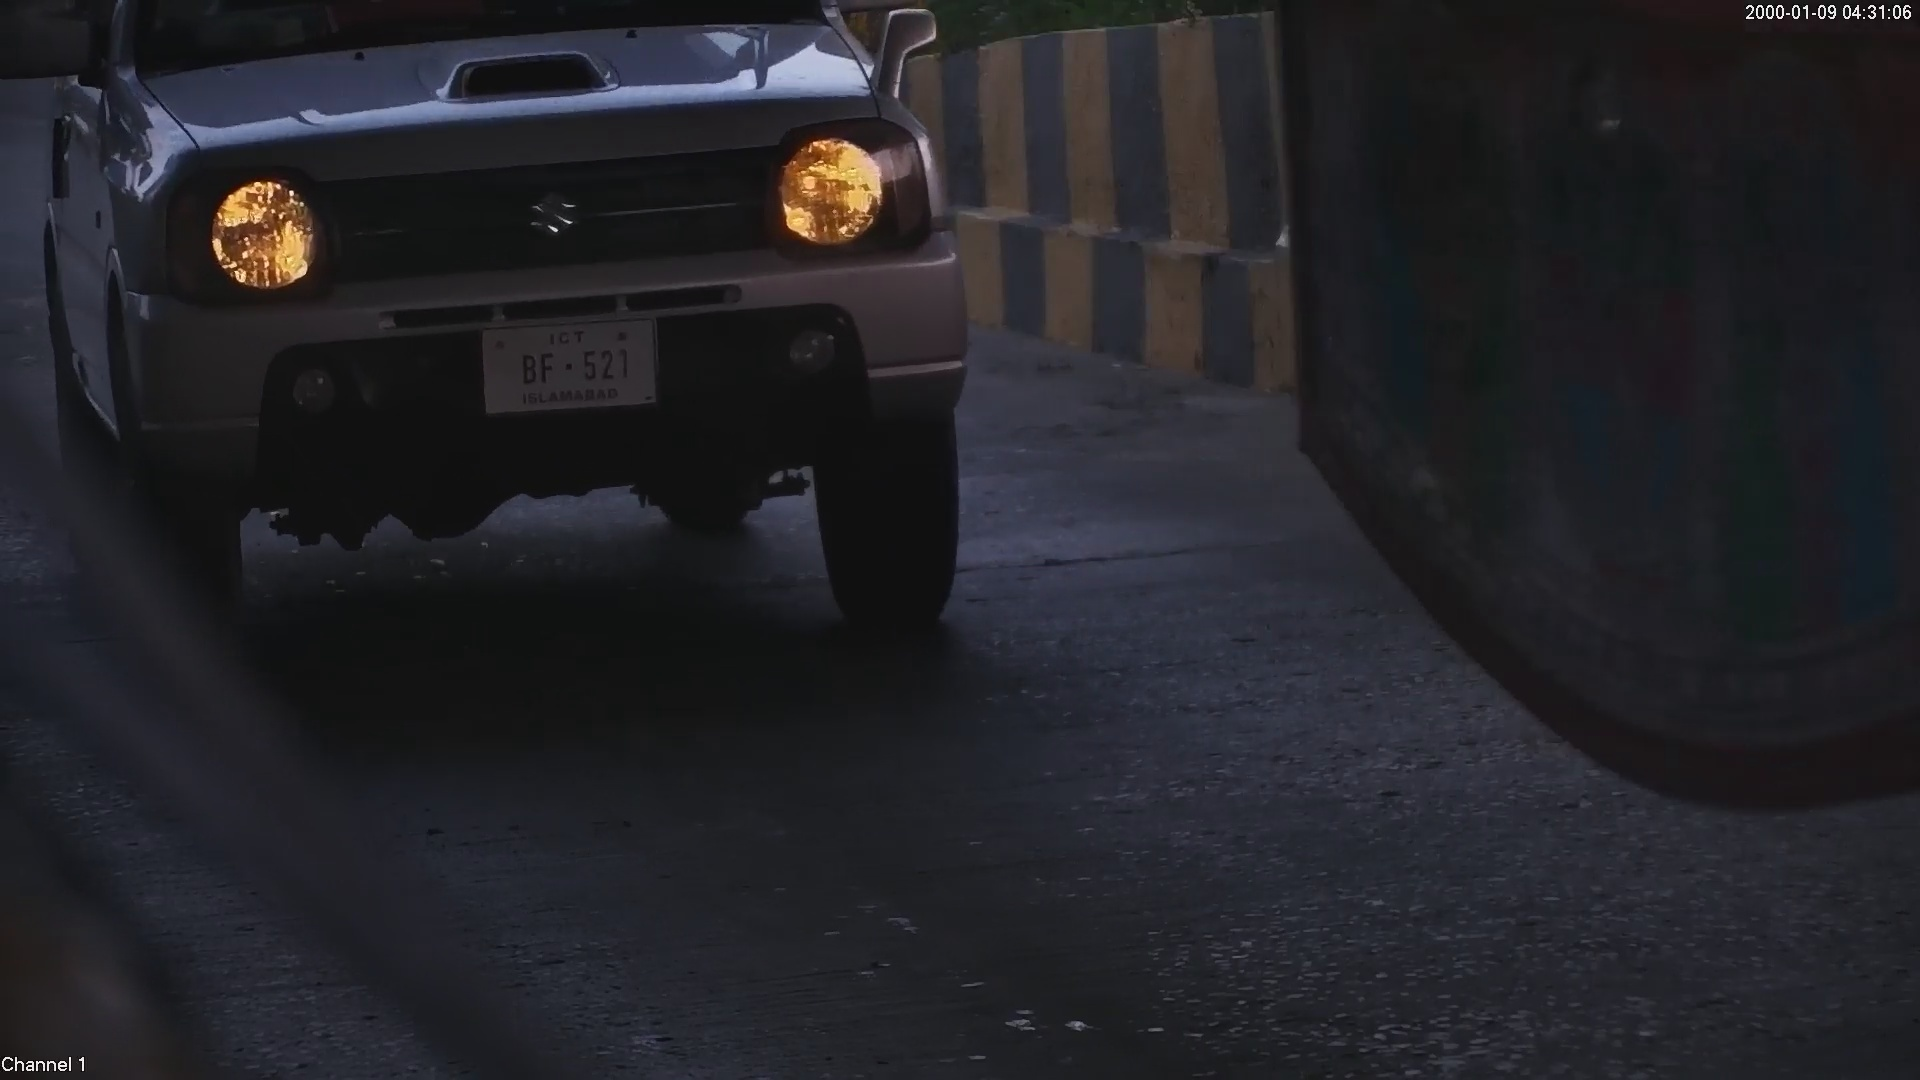Number_Plate: (463, 303, 665, 416)
Undefined: (204, 170, 321, 288), (780, 138, 895, 257)
